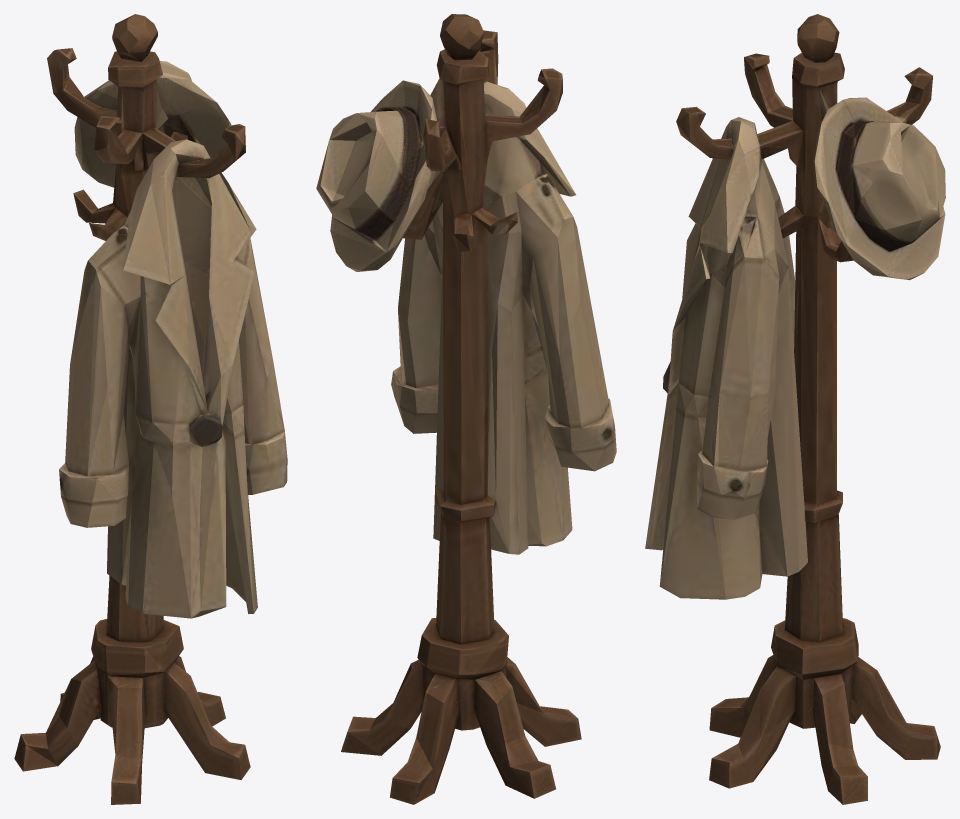
File: cabideiro.glb
3 views of the same model, side by side, from view 1: azimuth 30°, elevation 25°; view 2: azimuth 150°, elevation 25°; view 3: azimuth 270°, elevation 25° (orthographic).
Parts seen in each view (by area): view 1: Mesh_0; view 2: Mesh_0; view 3: Mesh_0.
Boxes of the visible parts, x1,y1,x2,y2 form: Mesh_0: [14, 14, 287, 804]; Mesh_0: [316, 14, 616, 804]; Mesh_0: [645, 14, 945, 804].
Bounding box in the file's own units: 0.5803 × 1.85 × 0.6842.
1 material, 1 textured.
